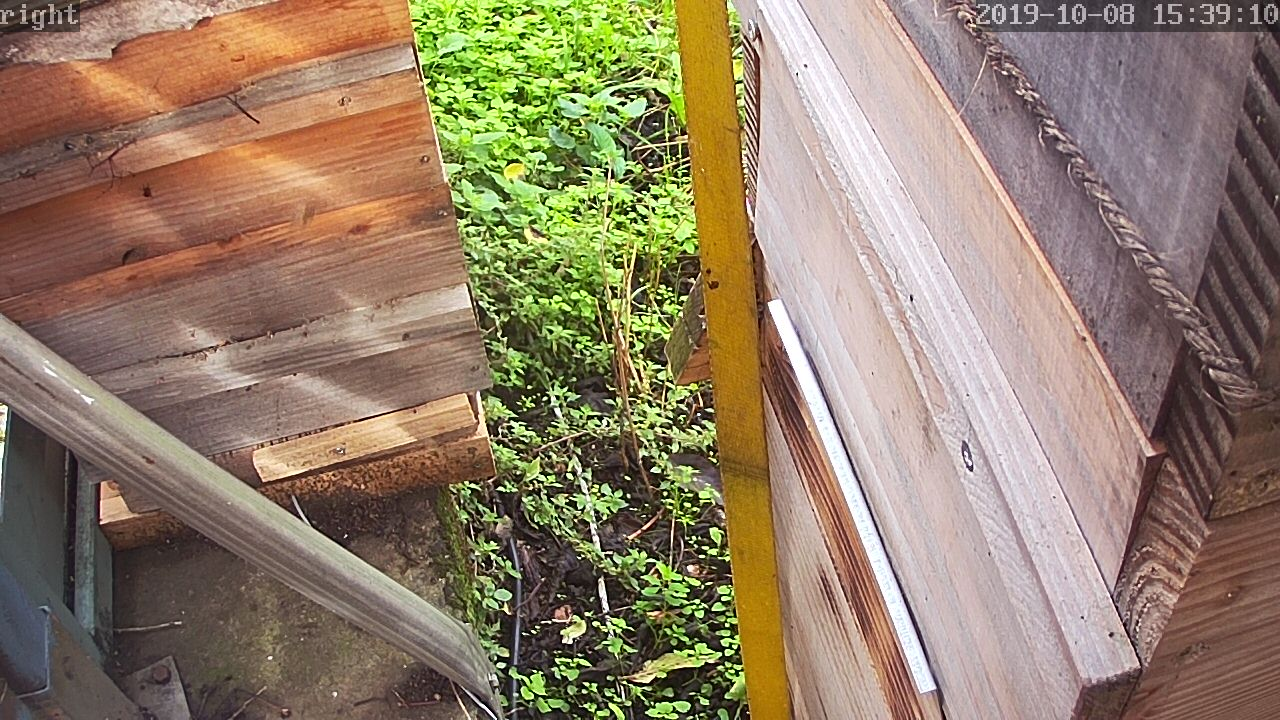hornet: (710, 548, 744, 599)
